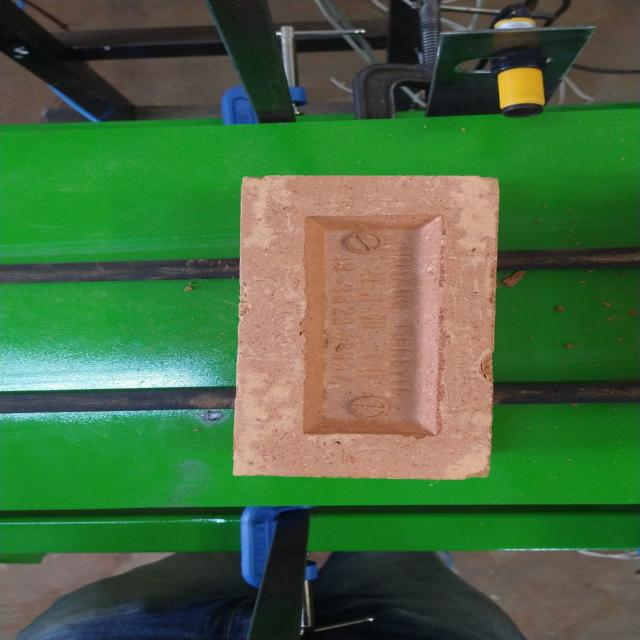bricks: (231, 175, 495, 476)
